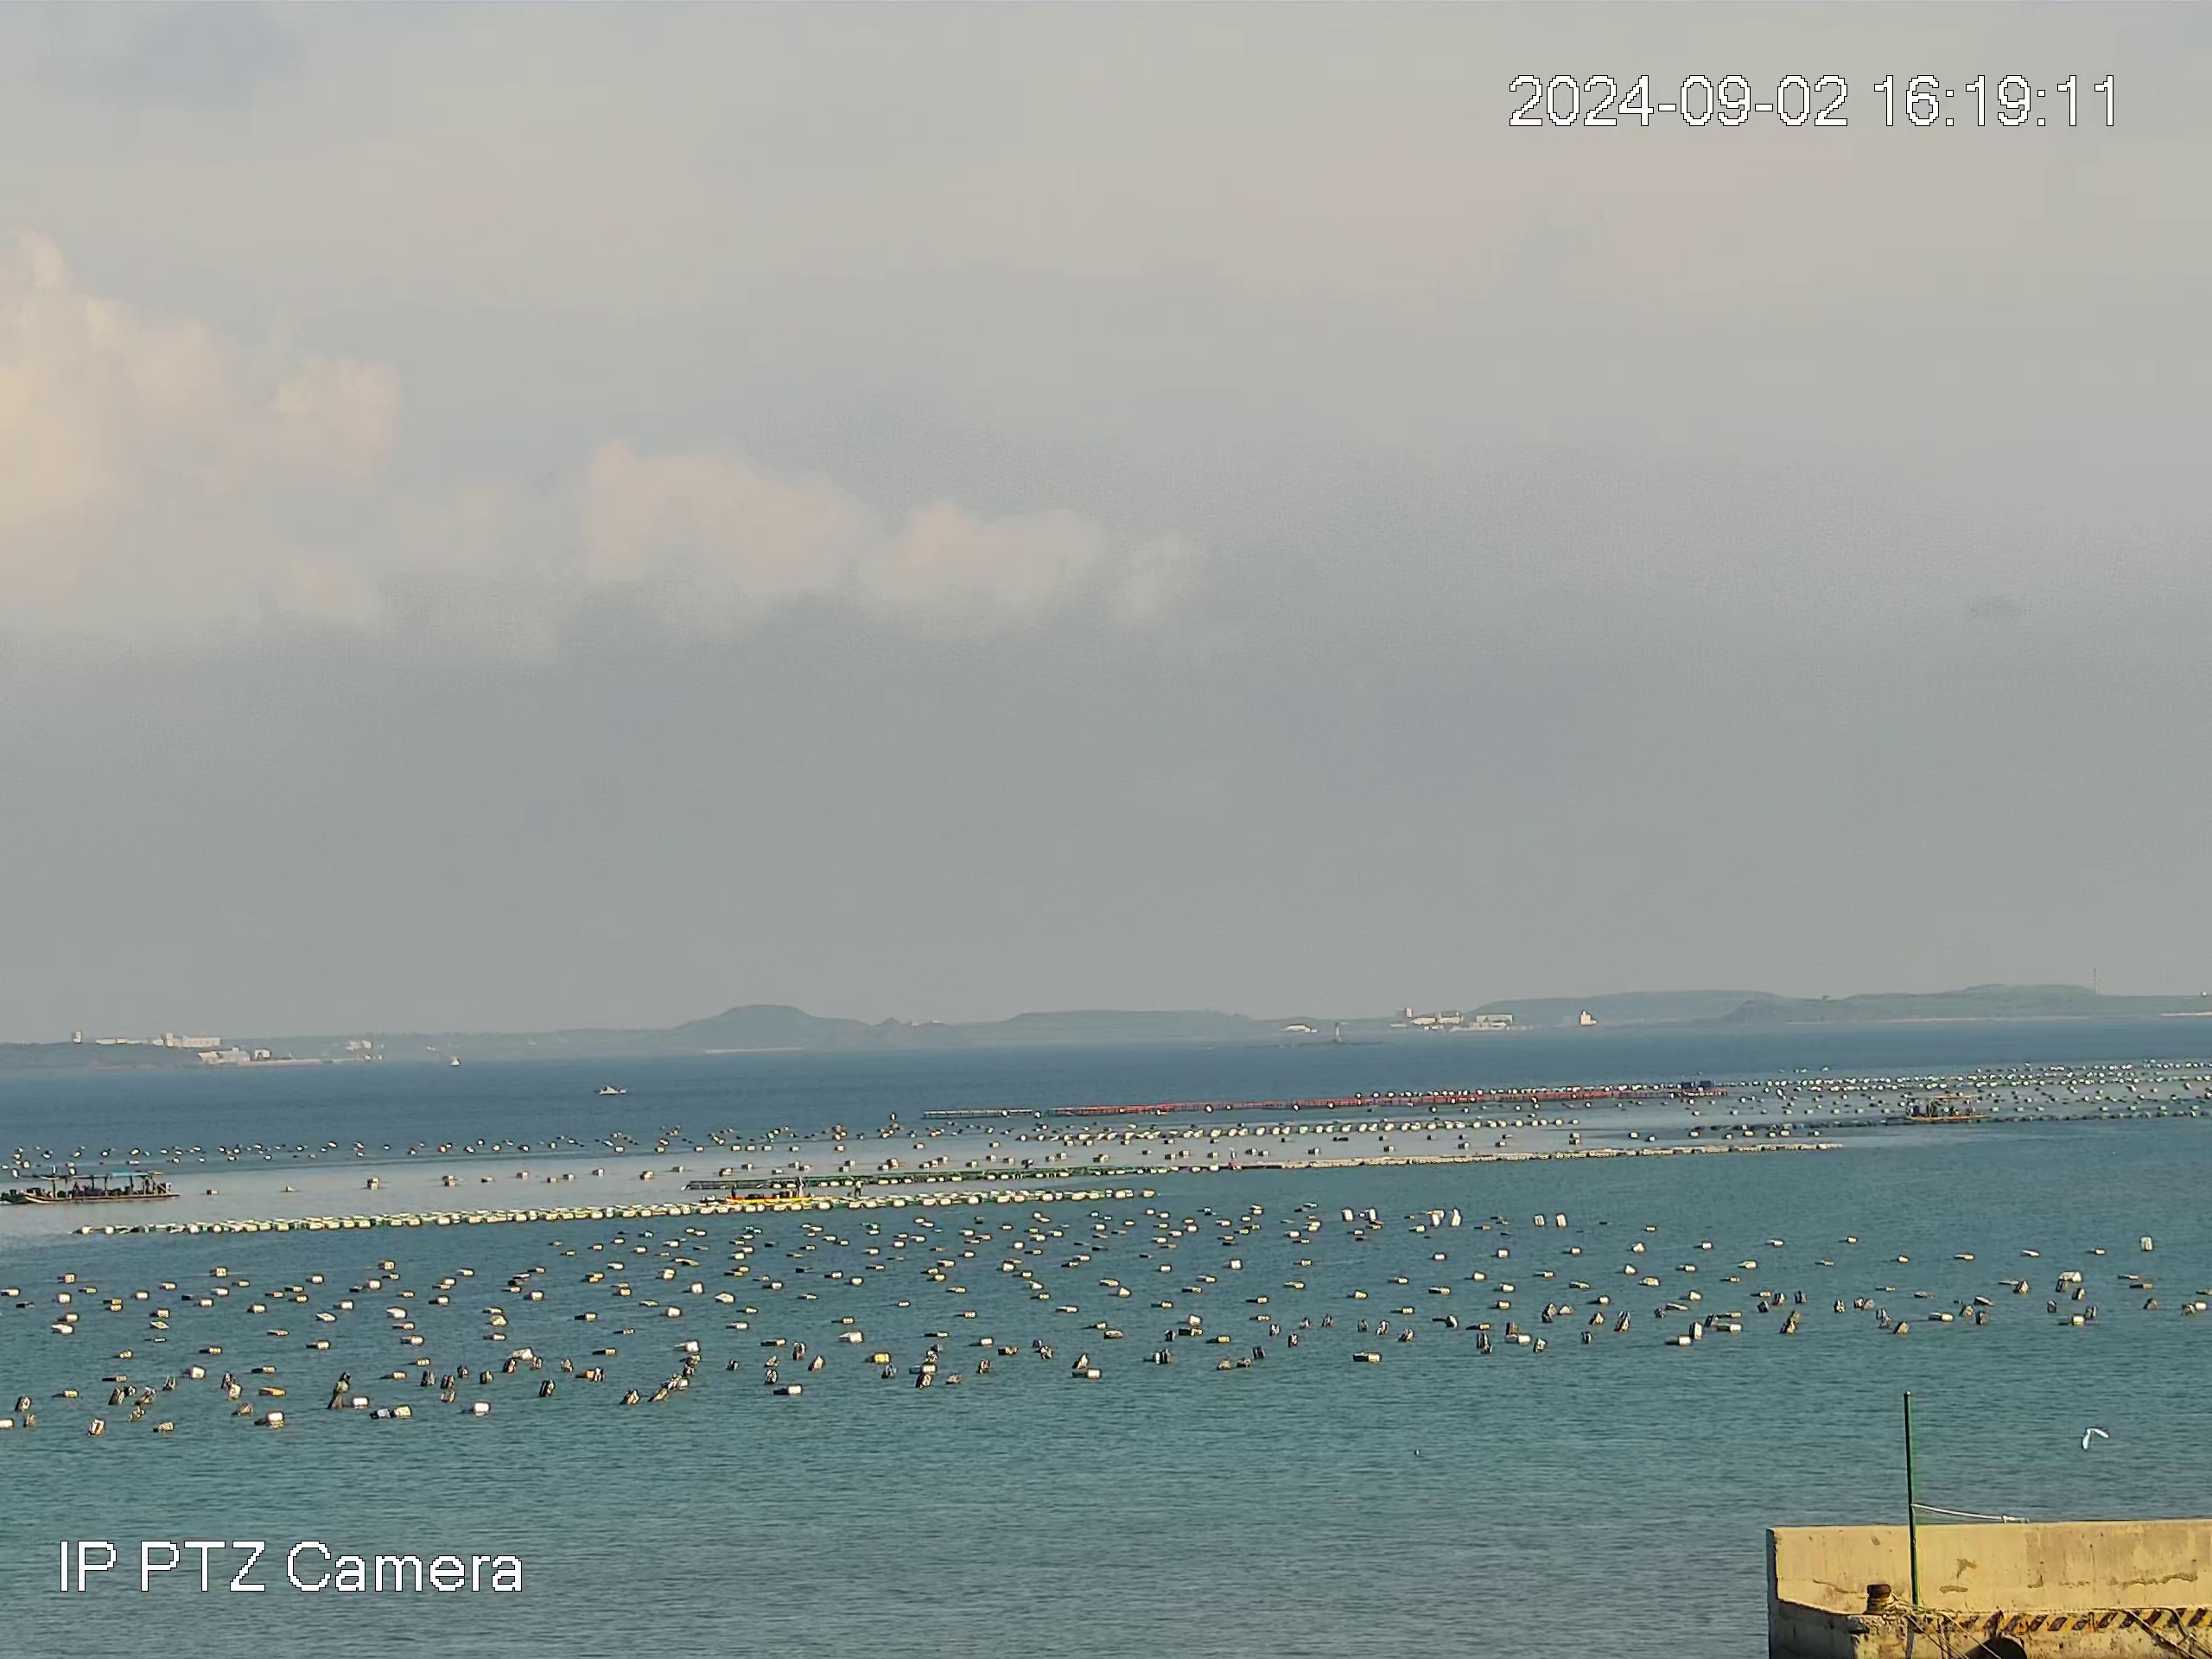boat: (1, 1173, 181, 1205), (1902, 1093, 1983, 1125), (724, 1183, 812, 1205)
